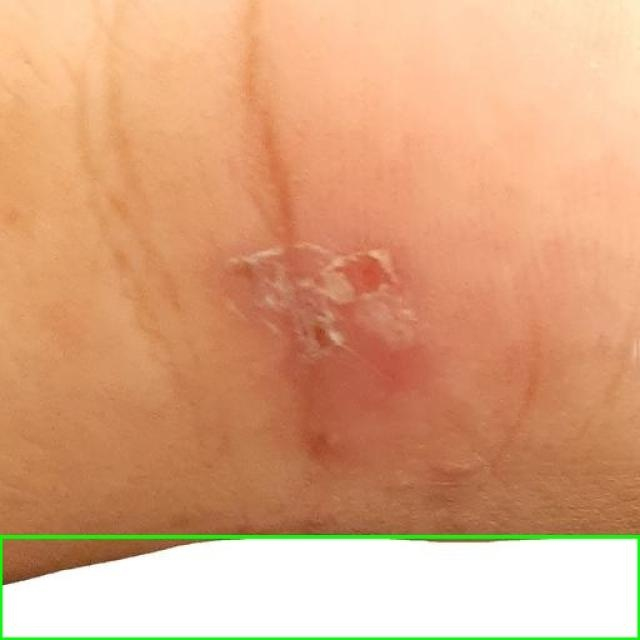Scabies: (0, 536, 639, 639)
